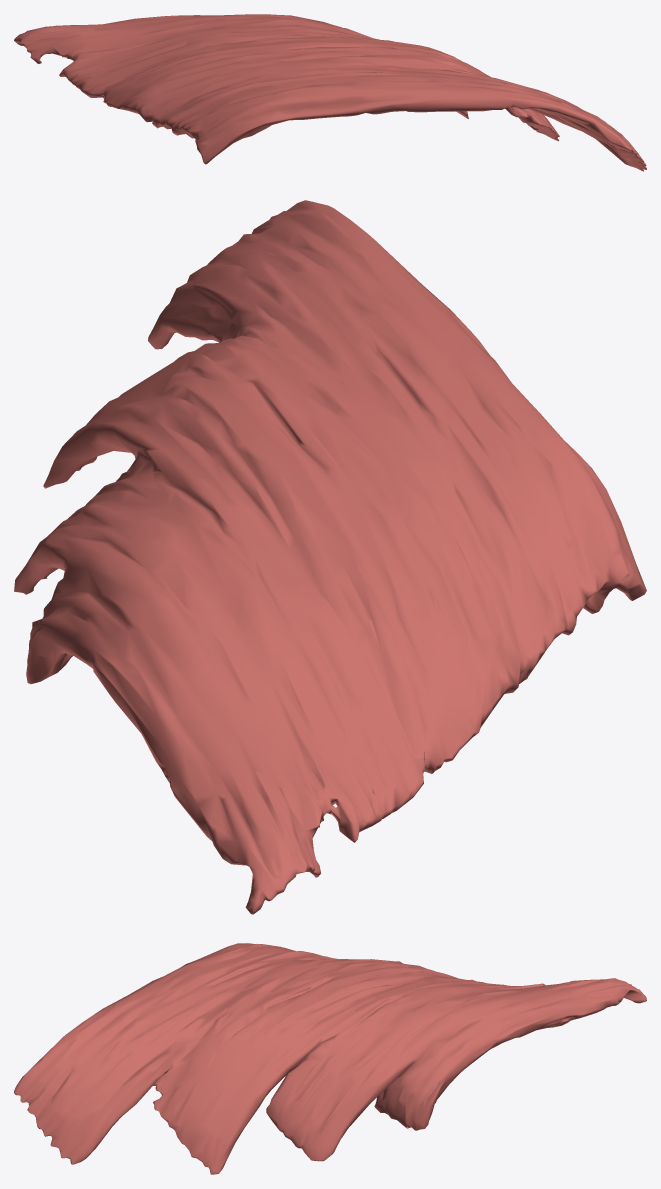
The picture shows the model from 3 angles, top to bottom: view 1: azimuth 30°, elevation 25°; view 2: azimuth 150°, elevation 25°; view 3: azimuth 270°, elevation 25°; orthographic projection. The views are drawn at different scales.
Visible parts, largest first — view 1: 左侧下后锯肌; view 2: 左侧下后锯肌; view 3: 左侧下后锯肌.
Boxes of the visible parts, x1,y1,x2,y2 form: 左侧下后锯肌: (14,14,646,171); 左侧下后锯肌: (14,200,646,914); 左侧下后锯肌: (14,943,646,1174).
Size of the model in its own units: 0.1675 by 0.0547 by 0.2631.
